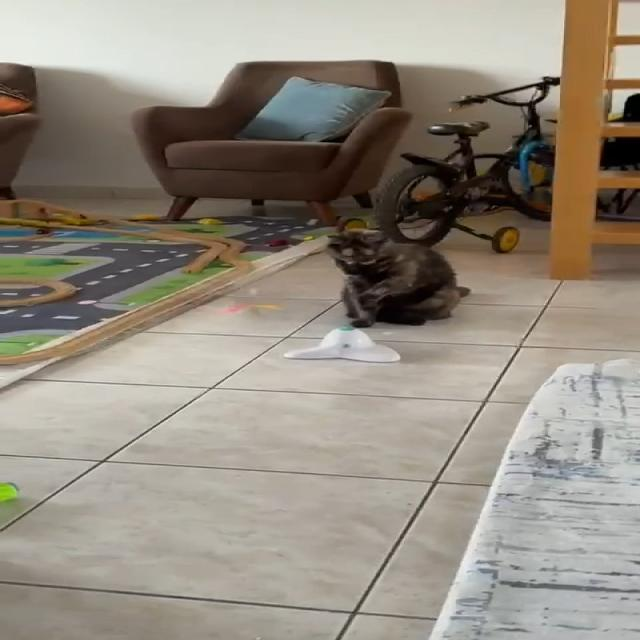authorized: (324, 228, 471, 327)
